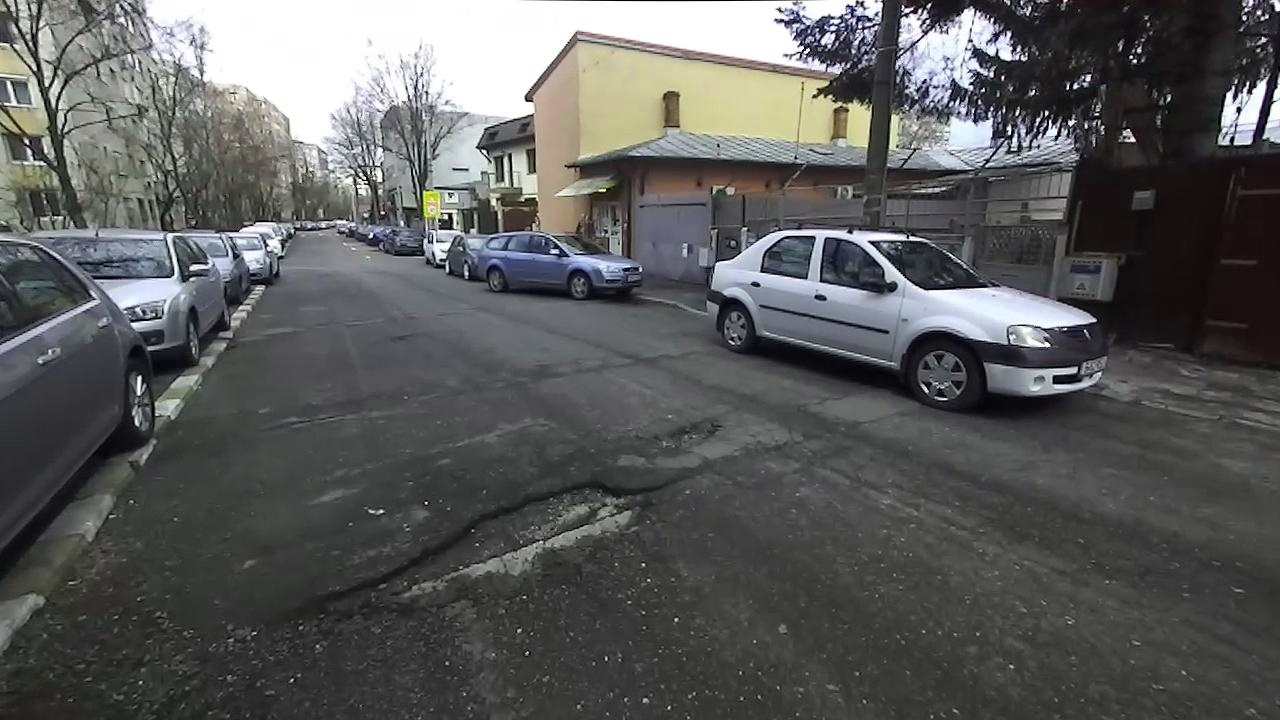pothole: (279, 471, 688, 628), (639, 410, 731, 452), (278, 402, 362, 433)
